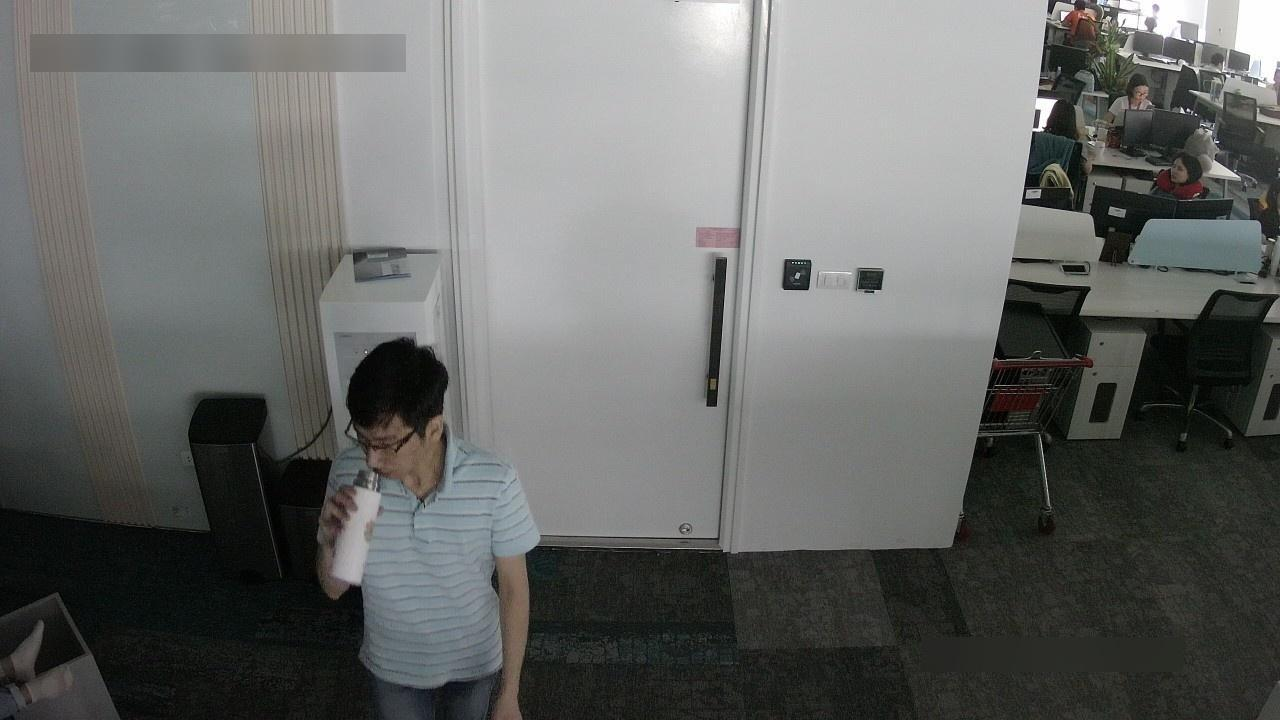no_apron: (314, 476, 374, 535), (488, 681, 534, 720)
no_gloves: (332, 316, 467, 446), (1046, 92, 1086, 142), (1168, 147, 1214, 189), (1126, 68, 1158, 106), (1203, 44, 1234, 78), (1066, 0, 1093, 16)
no_hairnet: (343, 408, 430, 482), (1168, 164, 1191, 190)
